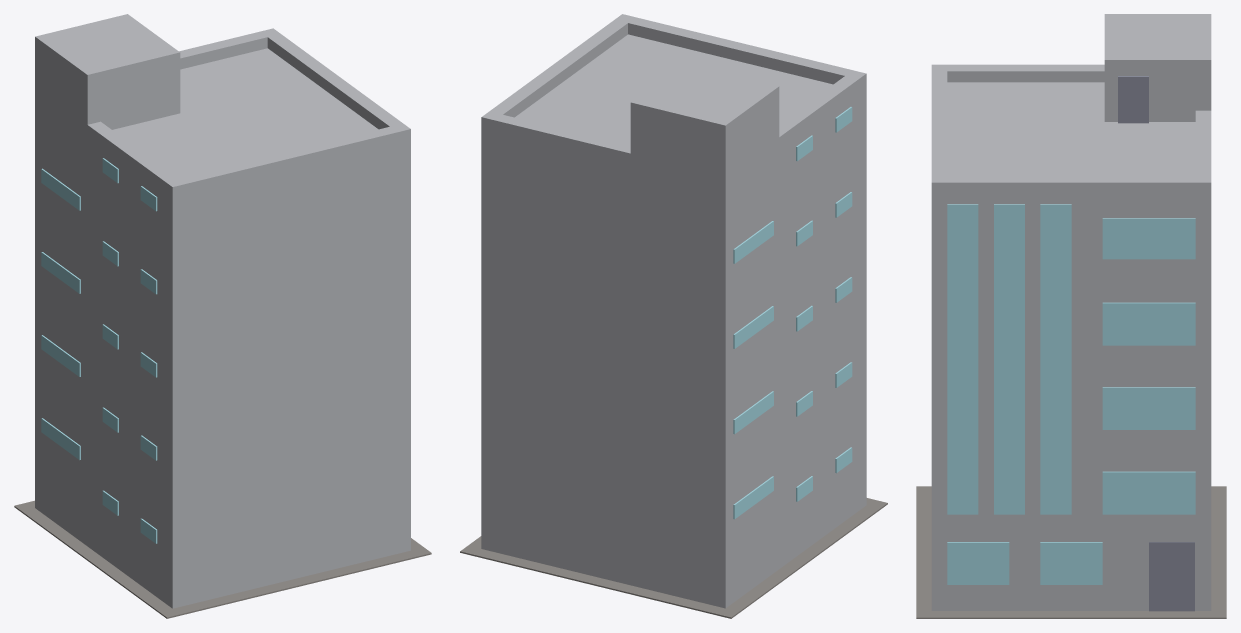
File: Buildind小1.fbx
The picture shows the model from 3 angles, left to right: view 1: azimuth 30°, elevation 25°; view 2: azimuth 150°, elevation 25°; view 3: azimuth 270°, elevation 25°; orthographic projection. The views are drawn at different scales.
Visible parts, largest first — view 1: building.1; view 2: building.1; view 3: building.1.
Boxes of the visible parts, x1,y1,x2,y2 form: building.1: (14, 14, 431, 618); building.1: (460, 14, 887, 618); building.1: (916, 14, 1226, 618).
Bounding box in the file's own units: 1000 × 1707 × 1000.
